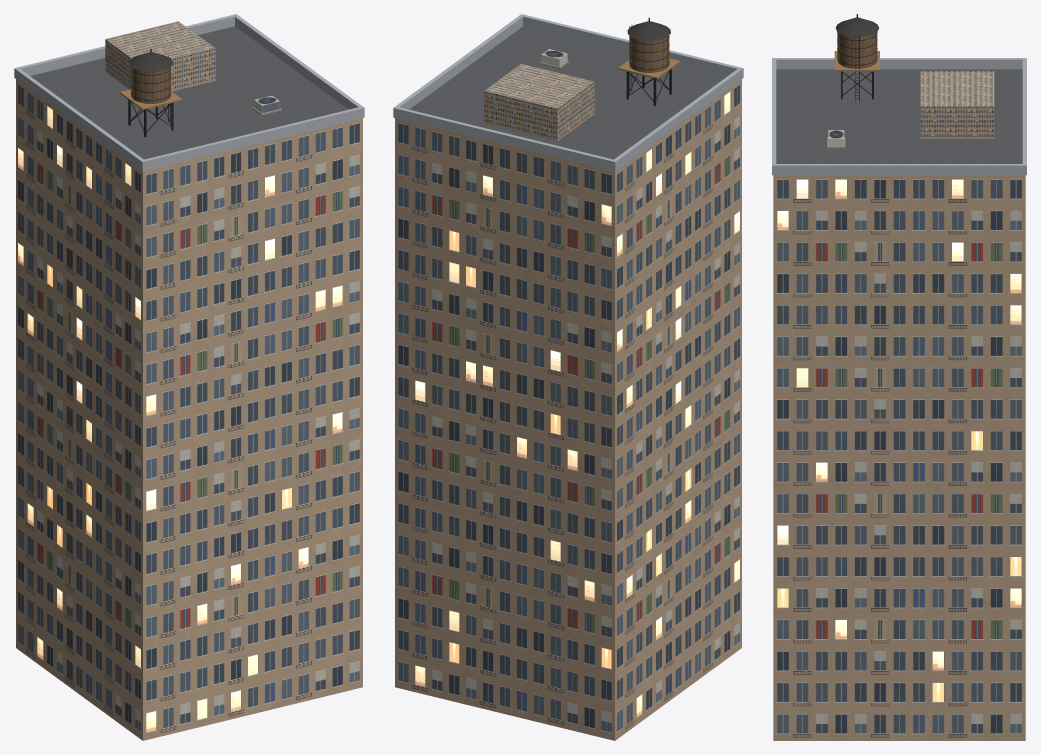
Rendered from Tower3.fbx.
3 renders of one model, left to right at view 1: azimuth 30°, elevation 25°; view 2: azimuth 150°, elevation 25°; view 3: azimuth 270°, elevation 25°, orthographic.
Parts seen in each view (by area): view 1: Tower3_Mesh; view 2: Tower3_Mesh; view 3: Tower3_Mesh.
Boxes of the visible parts, <box> form: Tower3_Mesh: <box>14,14,364,740</box>; Tower3_Mesh: <box>393,14,743,740</box>; Tower3_Mesh: <box>772,14,1026,740</box>.
Size of the model in its own units: 24.24 by 67.6 by 24.24.
